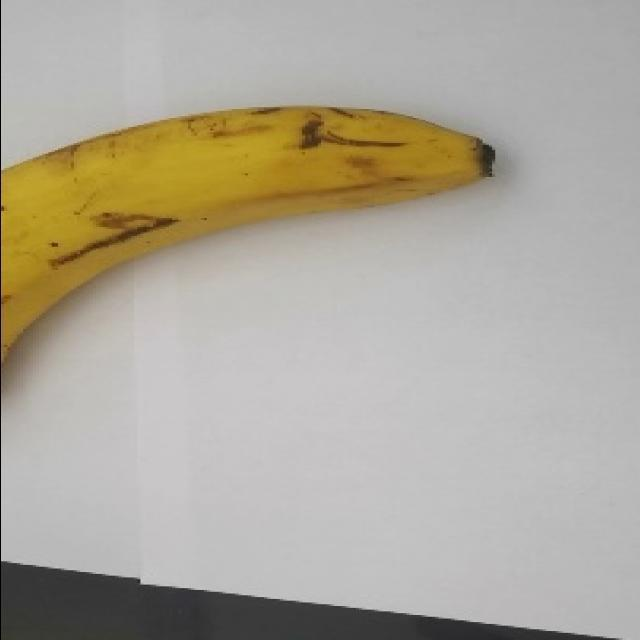Banana: (1, 103, 495, 367)
